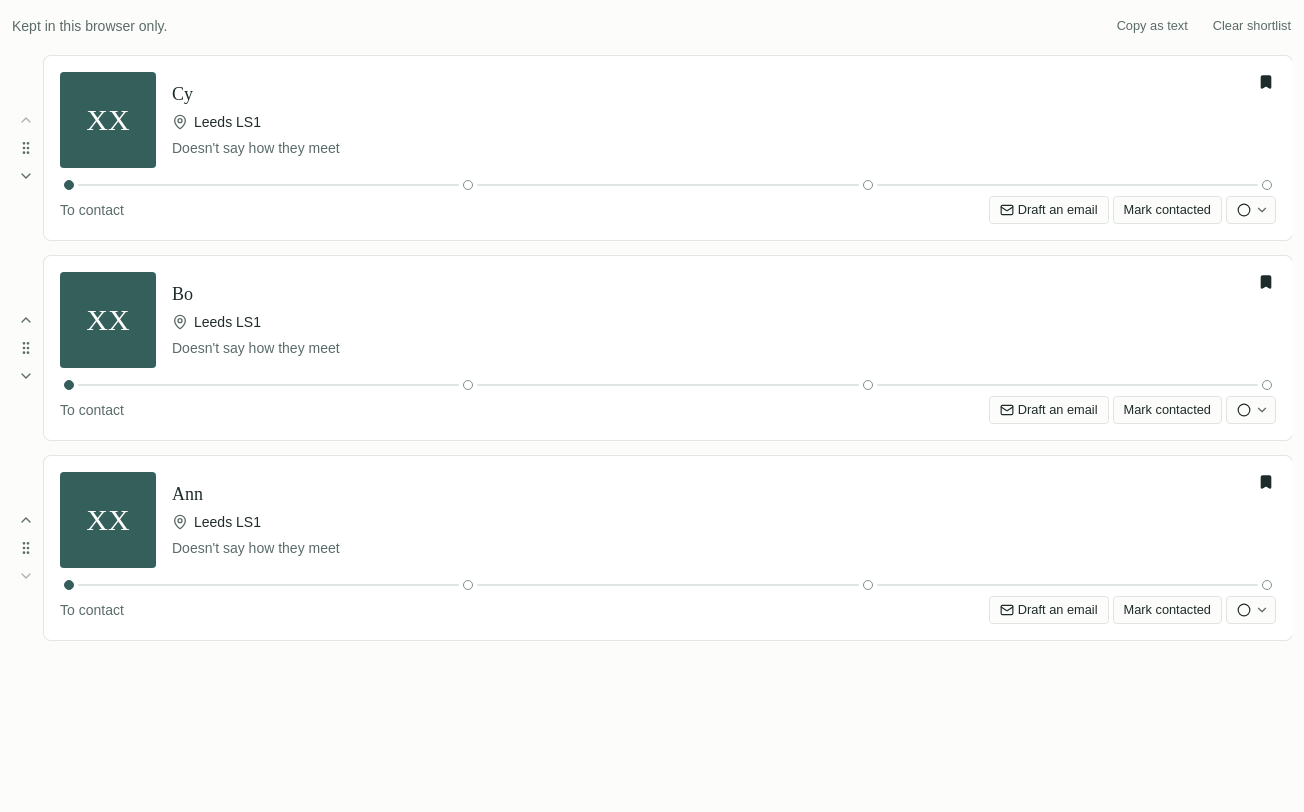
Test: ShortlistTab › keeps a removed therapist in place, their portrait faded, with where they stood but nothing to change it, until they are added back
Click the 6th button named "Remove Bo from your shortlist" at (1266, 282), box [1252,268,1280,296]
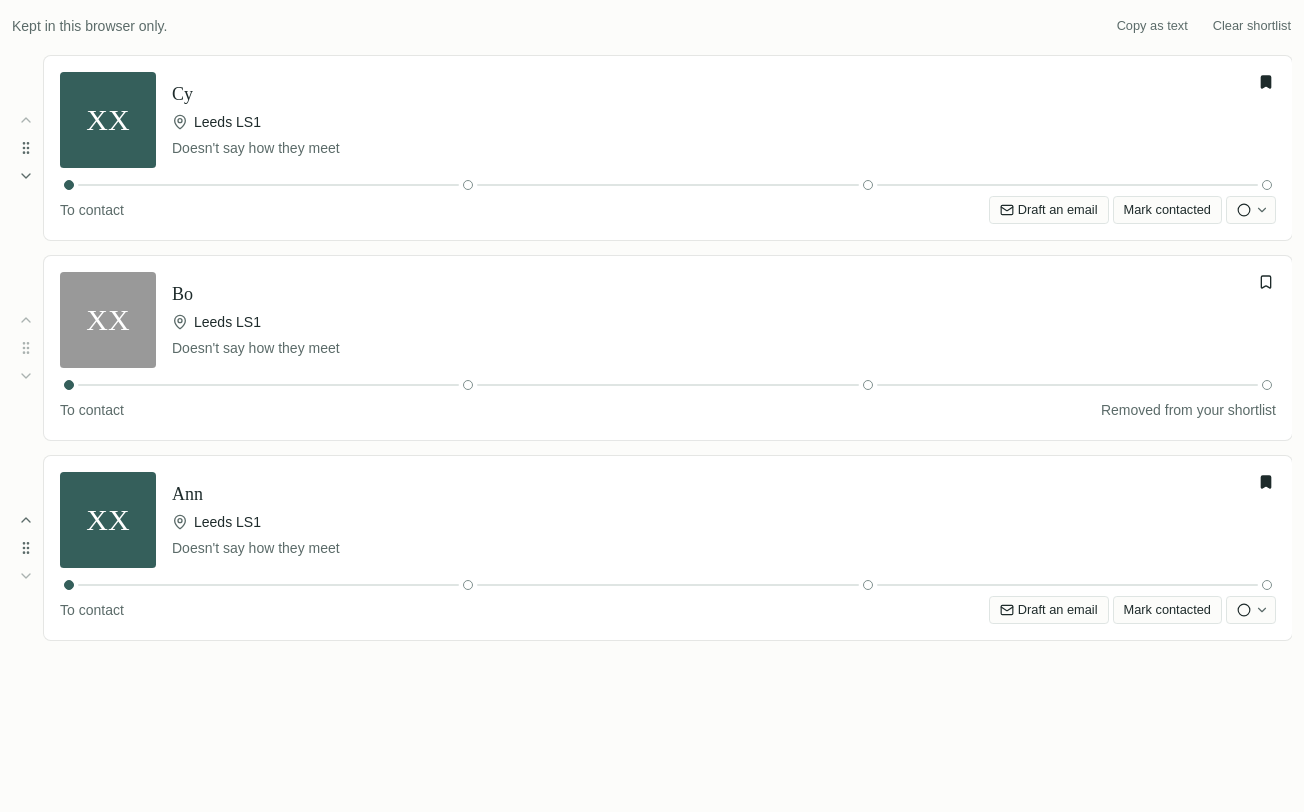
Expected: the button "Status of Bo:" is not shown
Now the text "Removed from your shortlist" is shown, box [1101,400,1276,420]
Click the button named "Add Bo to your shortlist" in the row of "Bo" at (1266, 282), box [1252,268,1280,296]
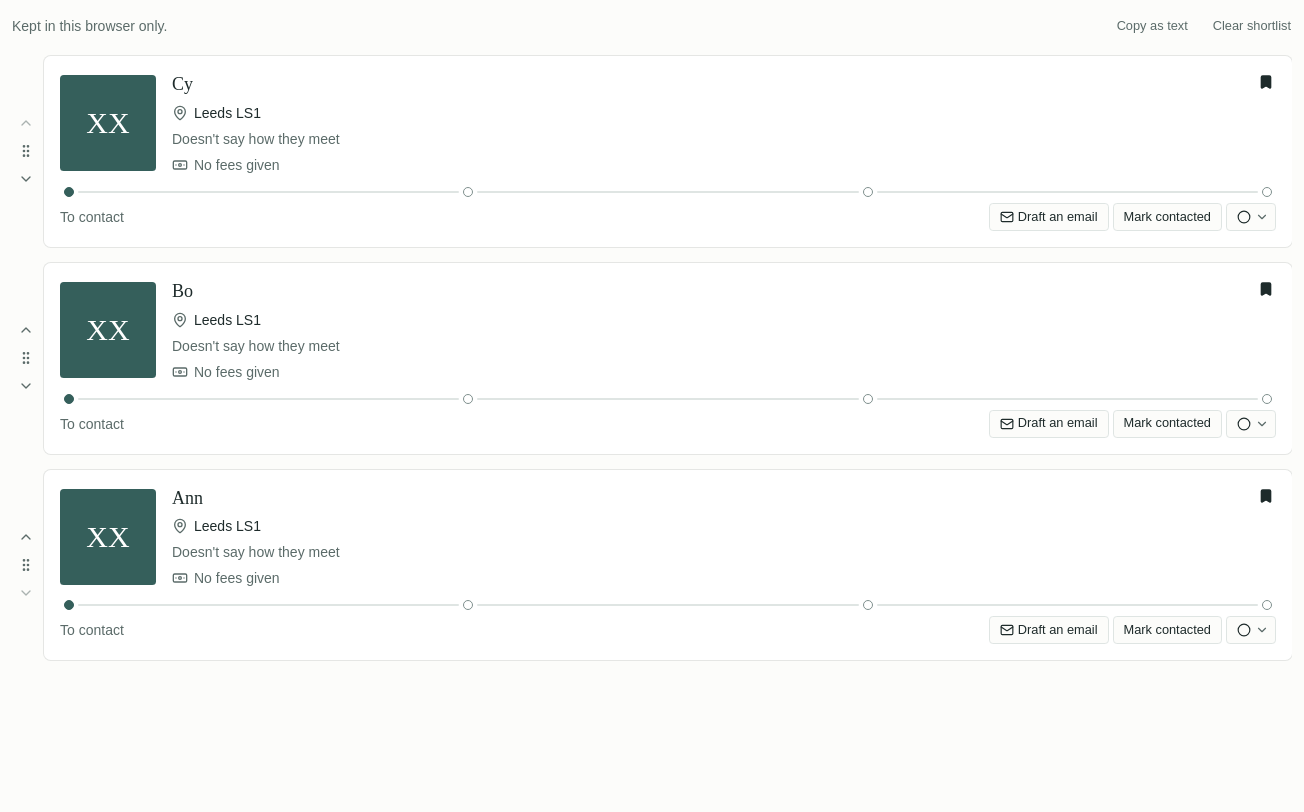
Now the text "Removed from your shortlist" is gone
Now the button named "Mark contacted, Bo" is shown, box [1112,410,1222,438]
